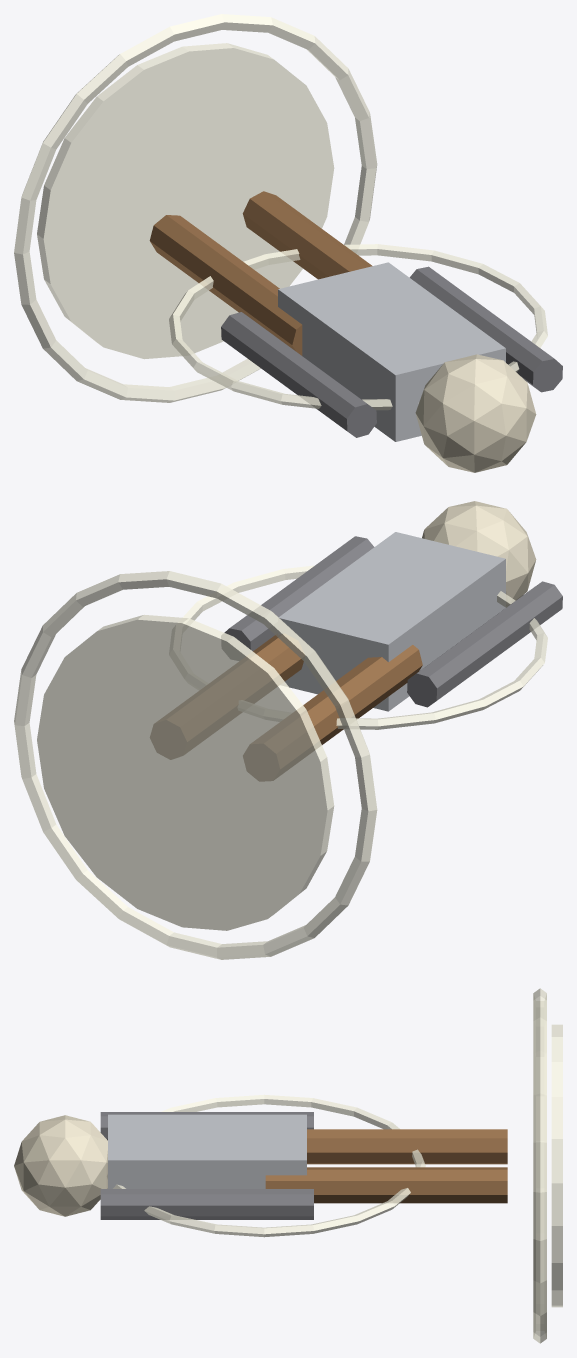
The model's file is biped_hit_react_pose.glb.
3 renders of one model, top to bottom at view 1: azimuth 30°, elevation 25°; view 2: azimuth 150°, elevation 25°; view 3: azimuth 270°, elevation 25°, orthographic. The views are drawn at different scales.
Visible parts, largest first — view 1: marker_disc, torso, marker_ring, head, left_leg, motion_arc, left_arm, right_leg, right_arm; view 2: marker_disc, torso, marker_ring, left_leg, right_leg, left_arm, motion_arc, head, right_arm; view 3: torso, right_leg, head, left_leg, right_arm, motion_arc, marker_ring, marker_disc, left_arm.
Part boxes in pixels (x1,y1,x2,y2): marker_disc: (37,43,334,359); torso: (278,262,505,441); marker_ring: (14,14,377,402); head: (415,354,536,472); left_leg: (149,215,302,355); motion_arc: (169,244,547,410); left_arm: (221,312,376,437); right_leg: (242,191,372,279); right_arm: (409,266,562,392); marker_disc: (37,614,334,930); torso: (278,532,505,711); marker_ring: (14,571,377,959); left_leg: (243,645,422,780); right_leg: (150,634,304,759); left_arm: (407,581,562,707); motion_arc: (169,565,547,729); head: (422,501,536,606); right_arm: (221,536,374,660); torso: (108,1114,306,1188); right_leg: (265,1167,507,1203); head: (14,1115,107,1216); left_leg: (307,1129,507,1164); right_arm: (100,1189,313,1219); motion_arc: (106,1094,425,1237); marker_ring: (533,988,546,1343); marker_disc: (551,1024,562,1307); left_arm: (100,1112,313,1140).
Bounding box in the file's own units: 1.25 × 1.24 × 1.93.
